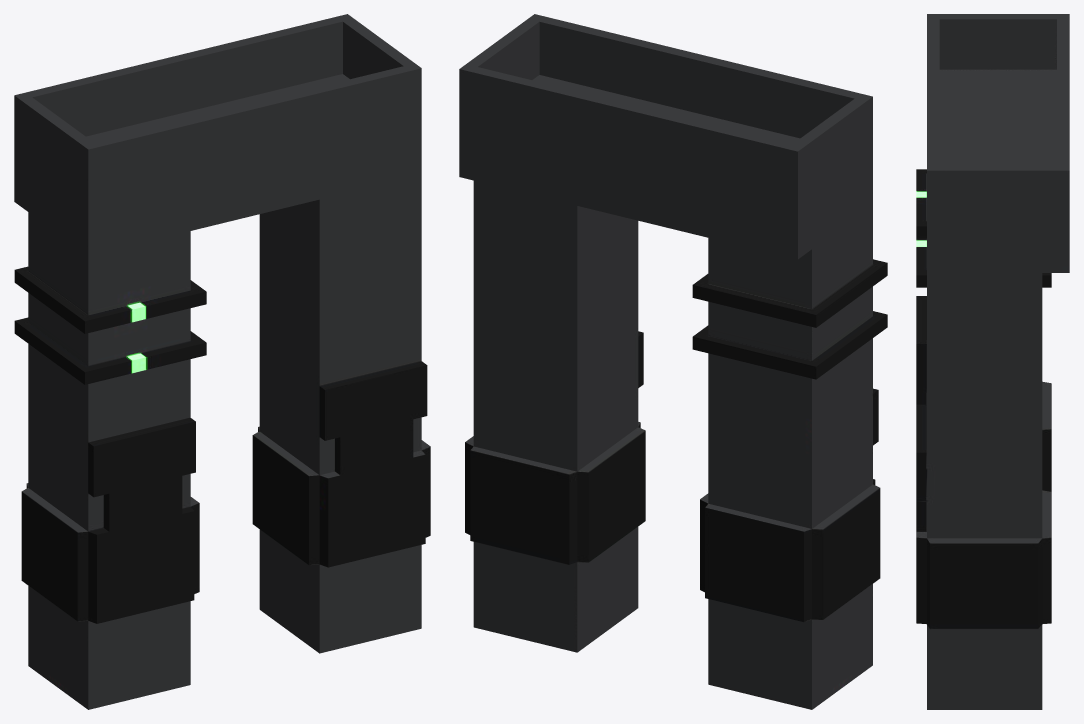
Rendered from pants_tactical.glb.
The picture shows the model from 3 angles, left to right: view 1: azimuth 30°, elevation 25°; view 2: azimuth 150°, elevation 25°; view 3: azimuth 270°, elevation 25°; orthographic projection. The views are drawn at different scales.
Parts seen in each view (by area): view 1: cyber_cas.001; view 2: cyber_cas.001; view 3: cyber_cas.001.
Part boxes in pixels (bbox=[...]): cyber_cas.001: bbox=[14, 14, 430, 709]; cyber_cas.001: bbox=[459, 14, 887, 709]; cyber_cas.001: bbox=[916, 14, 1069, 709].
Bounding box in the file's own units: 2.9 × 4.4 × 1.13.
1 material, 1 textured.
